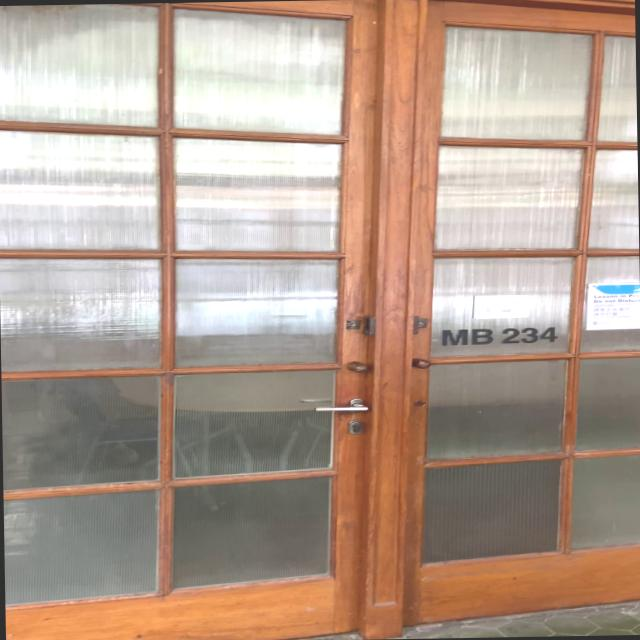room234Window: (436, 322, 562, 348)
